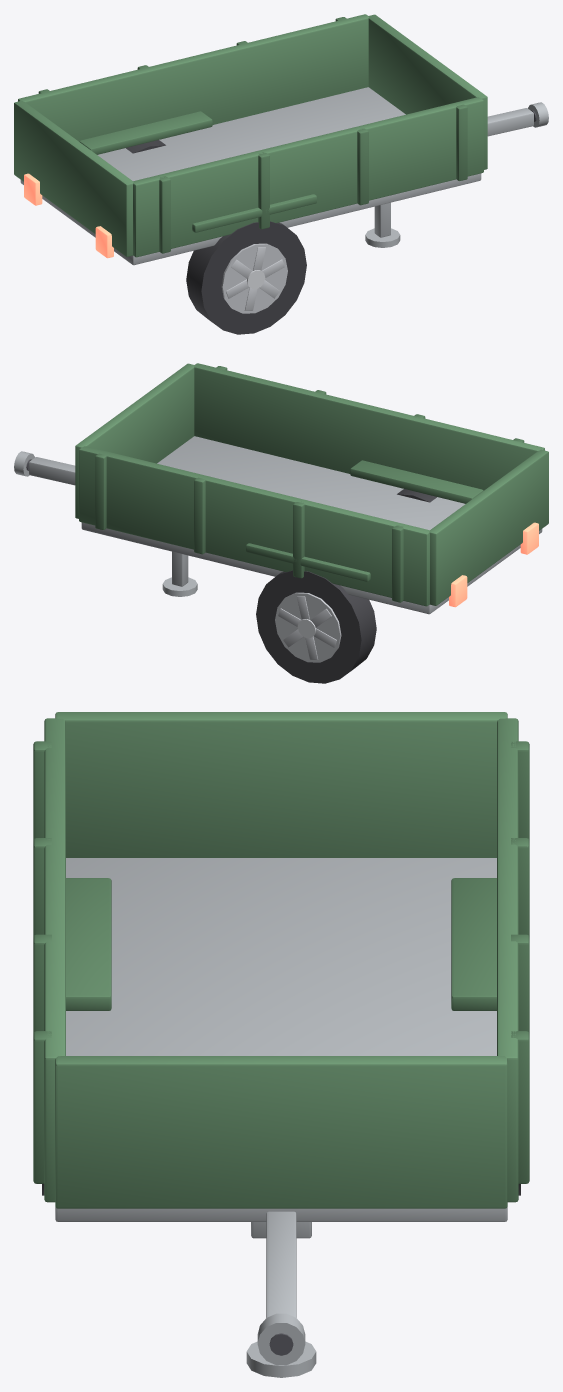
The model's file is th40_anhaenger.glb.
3 renders of one model, top to bottom at view 1: azimuth 30°, elevation 25°; view 2: azimuth 150°, elevation 25°; view 3: azimuth 270°, elevation 25°, orthographic. The views are drawn at different scales.
Visible parts, largest first — view 1: Cube.001, Cube.006, Cube, Cube.012, Cylinder.003, Cube.011, Cube.043, Cylinder.004, Cube.042, Cube.014, Cube.002, Cube.004 (+6 smaller); view 2: Cube.006, Cube.001, Cube, Cube.012, Cylinder.009, Cube.011, Cube.042, Cylinder.012, Cube.043, Cube.014, Cube.007, Cube.009 (+6 smaller); view 3: Cube, Cube.011, Cube.012, Cube.001, Cube.006, Cube.042, Cube.043, Cube.014, Cube.005, Cube.010, Cylinder, Cylinder.002 (+6 smaller).
Boxes of the visible parts, x1,y1,x2,y2 form: Cube.001: (133, 97, 483, 257); Cube.006: (18, 14, 368, 141); Cube: (20, 87, 481, 265); Cube.012: (14, 100, 133, 256); Cylinder.003: (186, 221, 306, 334); Cube.011: (368, 14, 487, 169); Cube.043: (79, 111, 212, 154); Cylinder.004: (221, 243, 287, 313); Cube.042: (192, 194, 316, 232); Cube.014: (487, 108, 533, 136); Cube.002: (159, 176, 170, 253); Cube.004: (357, 128, 368, 205); Cube.006: (79, 446, 429, 606); Cube.001: (194, 363, 544, 490); Cube: (81, 436, 542, 614); Cube.012: (429, 449, 548, 605); Cylinder.009: (256, 570, 376, 683); Cube.011: (75, 363, 194, 518); Cube.042: (350, 460, 483, 503); Cylinder.012: (275, 592, 341, 662); Cube.043: (246, 543, 370, 581); Cube.014: (29, 457, 75, 485); Cube.007: (392, 525, 403, 602); Cube.009: (194, 477, 205, 554); Cube: (55, 858, 507, 1221); Cube.011: (55, 1056, 507, 1208); Cube.012: (55, 712, 507, 857); Cube.001: (44, 718, 65, 1202); Cube.006: (497, 718, 518, 1202); Cube.042: (66, 878, 111, 1010); Cube.043: (451, 878, 496, 1010); Cube.014: (266, 1211, 296, 1317); Cube.005: (33, 1031, 51, 1183); Cube.010: (511, 1031, 529, 1183); Cylinder: (257, 1313, 305, 1365); Cylinder.002: (246, 1341, 316, 1377).
Bounding box in the file's own units: 5.08 × 1.79 × 2.28.
